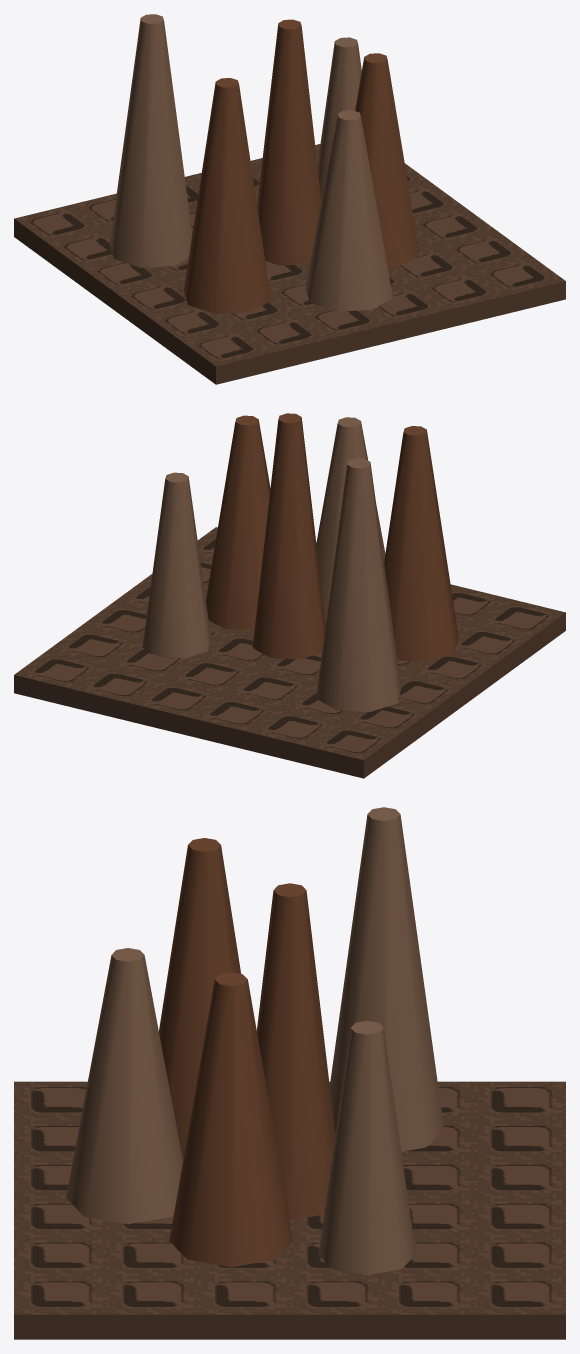
The model's file is CypressKnees.glb.
3 views of the same model, one above another, from view 1: azimuth 30°, elevation 25°; view 2: azimuth 150°, elevation 25°; view 3: azimuth 270°, elevation 25° (orthographic). The views are drawn at different scales.
Visible parts, largest first — view 1: CypressKnees; view 2: CypressKnees; view 3: CypressKnees.
Part boxes in pixels (x1,y1,x2,y2): CypressKnees: [14, 14, 565, 384]; CypressKnees: [14, 413, 565, 778]; CypressKnees: [14, 807, 565, 1339].
Size of the model in its own units: 6 by 4.08 by 6.
1 material, 1 textured.
